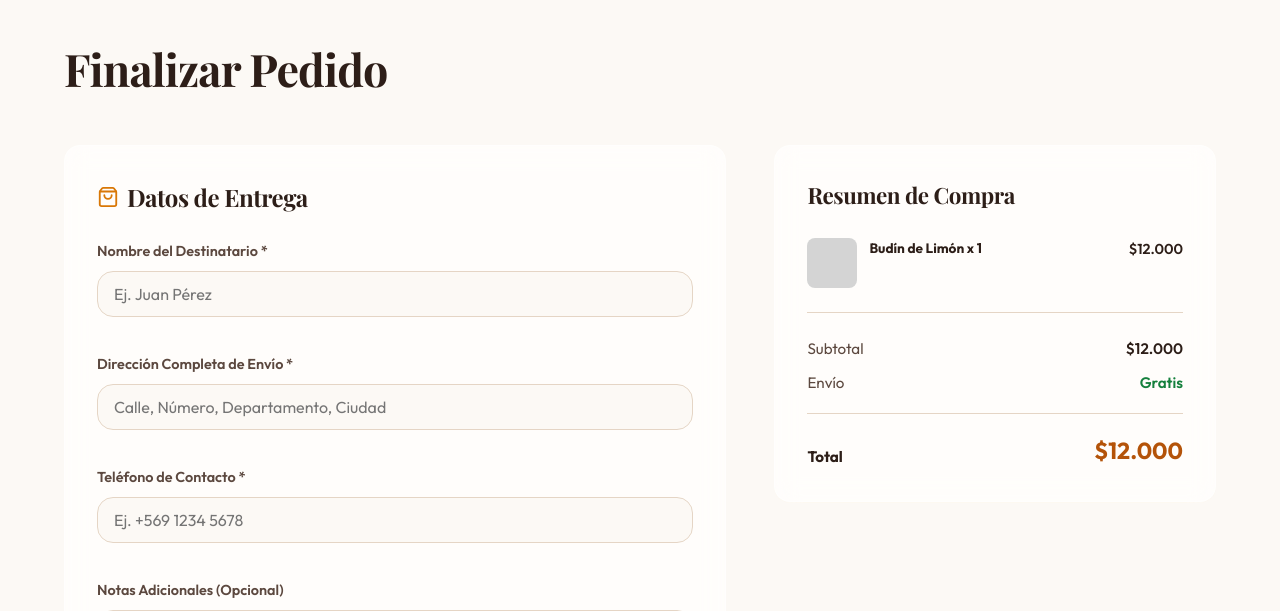
Checkout › guarda las notas si se completan
Type "Juan Pérez" into the field with placeholder "Ej. Juan Pérez" at (395, 294), box left=97, top=271, right=693, bottom=317
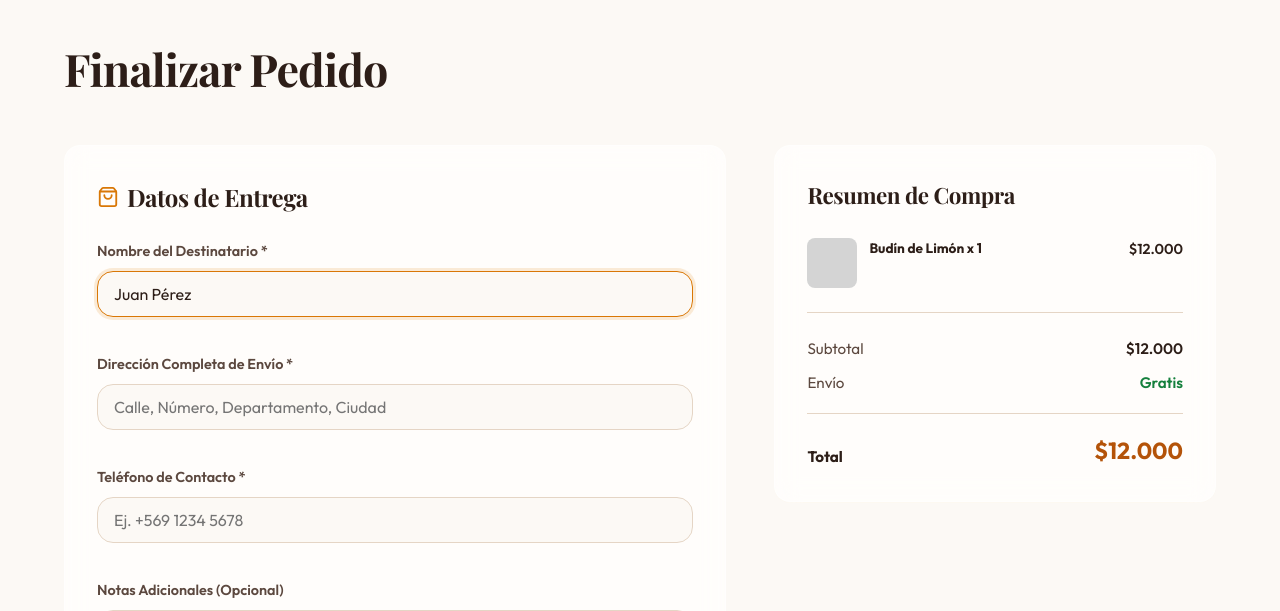
Type "Calle Falsa 123" into the field with placeholder "Calle, Número, Departamento, Ciudad" at (395, 407), box left=97, top=384, right=693, bottom=430
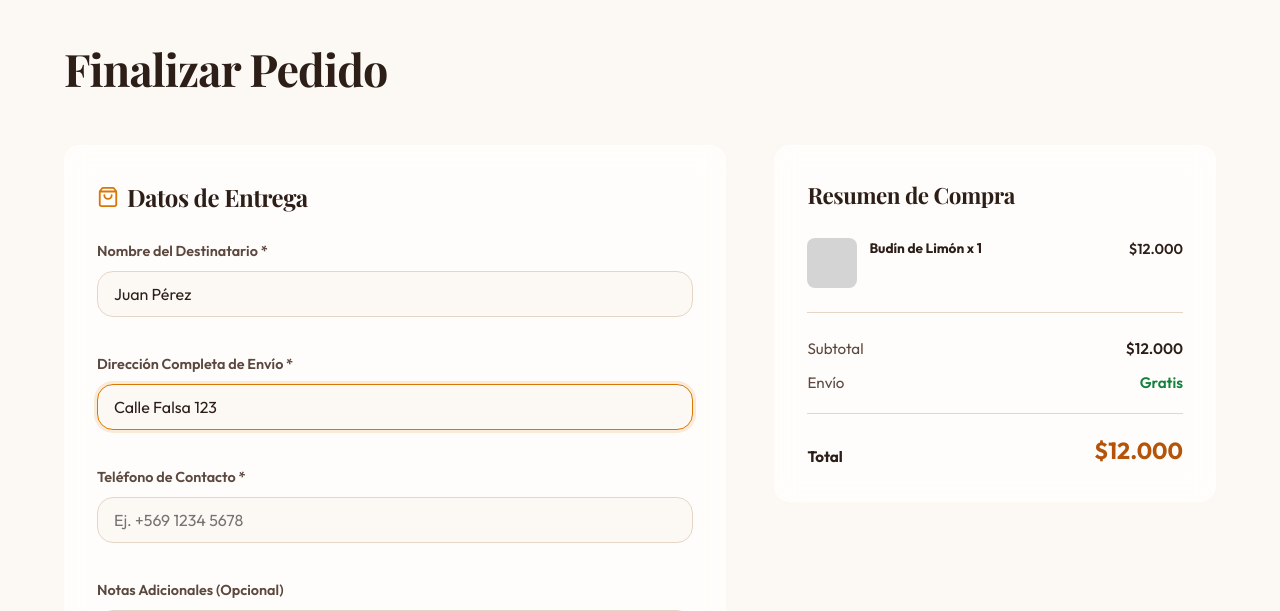
Type "3515555555" into the field with placeholder "Ej. +569 1234 5678" at (395, 520), box left=97, top=497, right=693, bottom=543
(page scrolled)
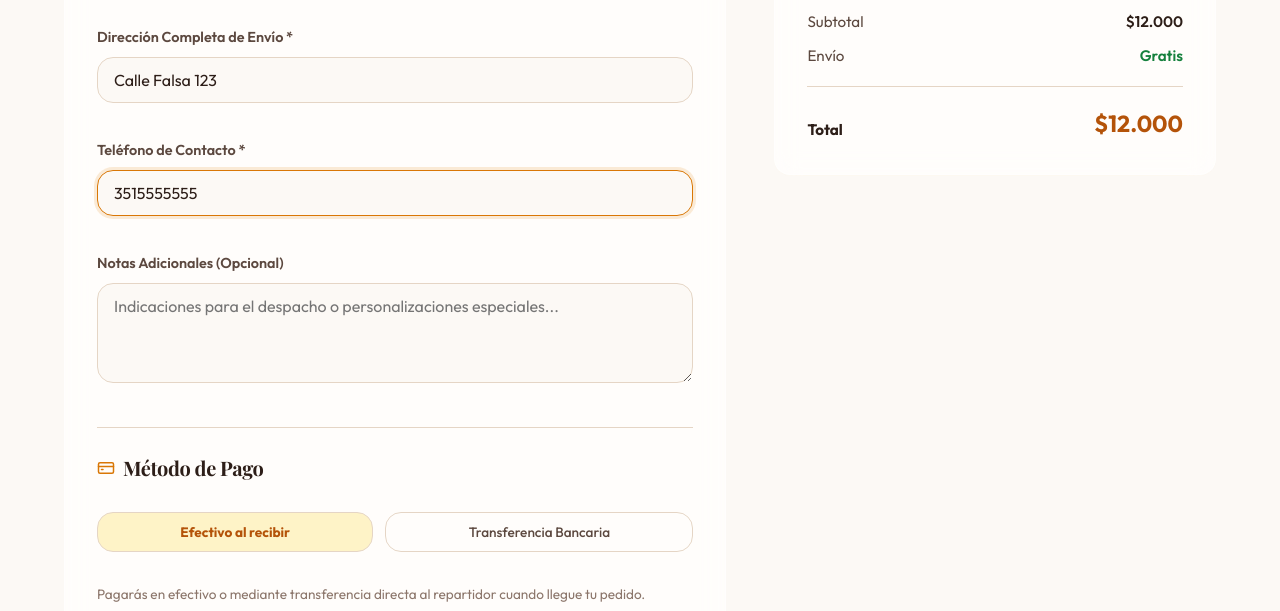
Type "Sin apuro, por la tarde" into the text box with placeholder "Indicaciones para el despacho o personalizaciones especiales..." at (395, 333), box left=97, top=283, right=693, bottom=383
(page scrolled)
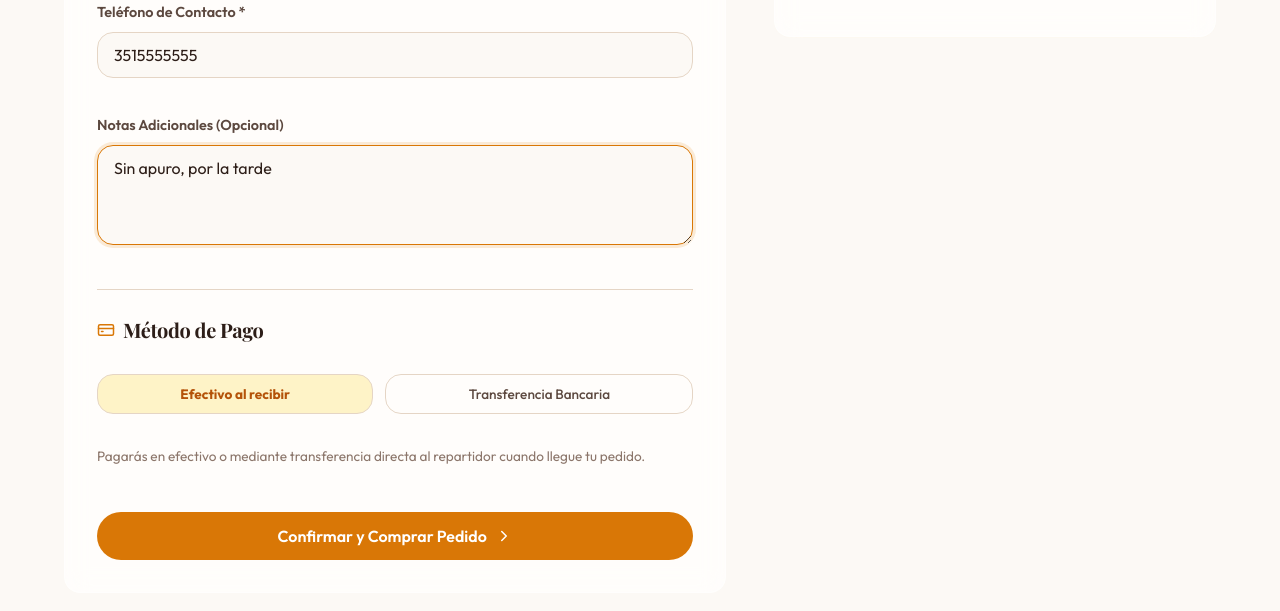
Click the button "Confirmar y Comprar Pedido" at (395, 536), box left=97, top=512, right=693, bottom=560
(page scrolled)
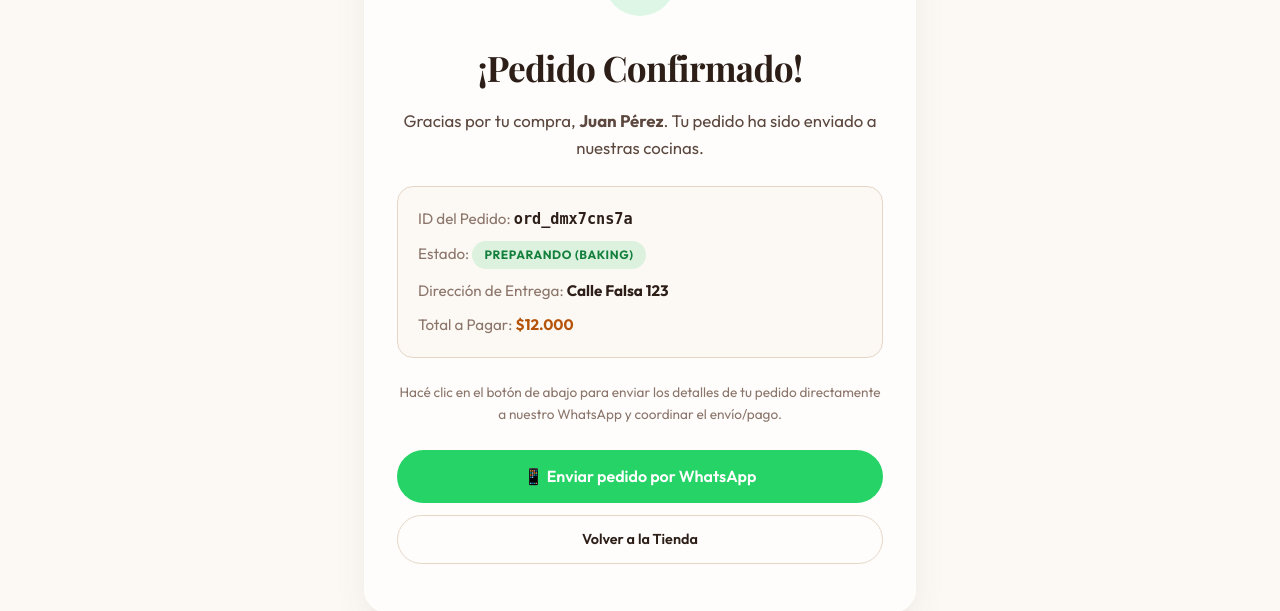
Check: the heading "¡Pedido Confirmado!" is shown, box left=478, top=44, right=802, bottom=91
